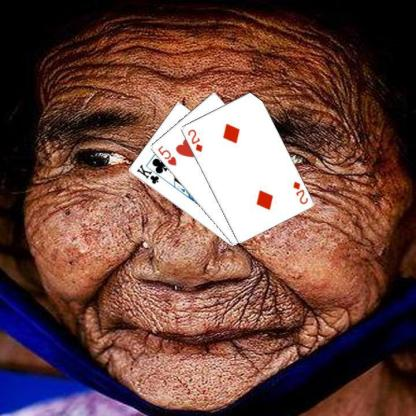2D: (290, 179, 309, 205), (185, 127, 203, 153)
5H: (155, 143, 177, 167)
KC: (134, 162, 165, 185)
